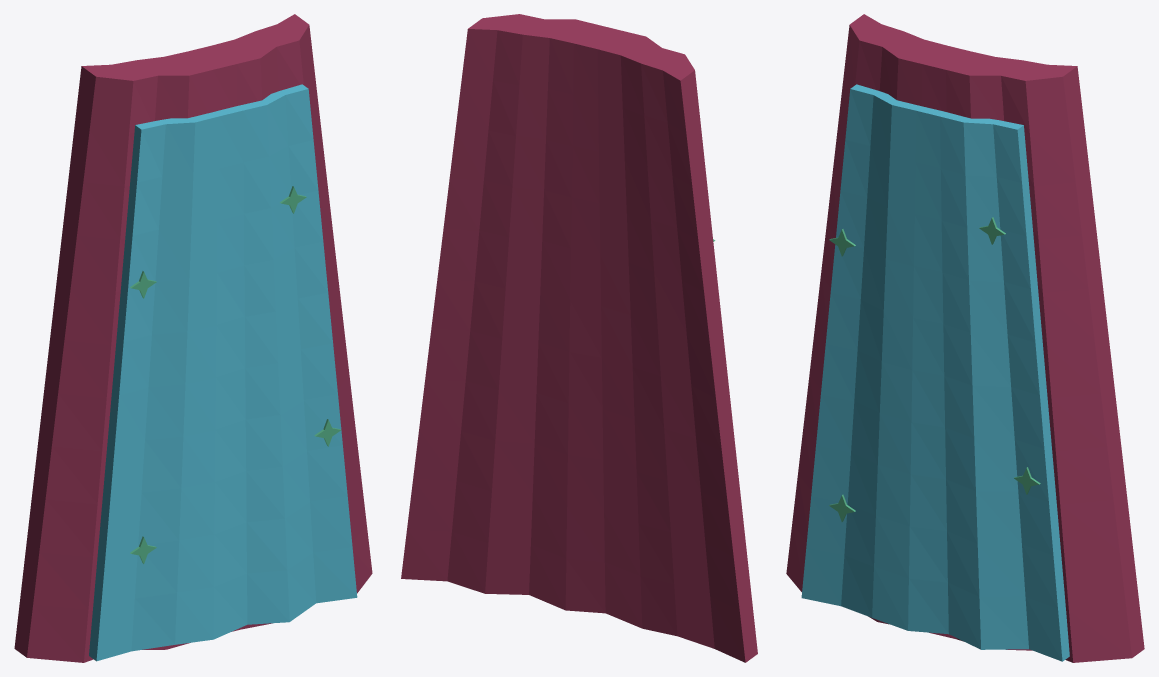
The model's file is star_veil.obj.
3 renders of one model, left to right at view 1: azimuth 30°, elevation 25°; view 2: azimuth 150°, elevation 25°; view 3: azimuth 330°, elevation 25°, orthographic.
Visible parts, largest first — view 1: star_veil_layer, star_veil_body, star_veil_body_edge, star_veil_layer_edge; view 2: star_veil_body_back, star_veil_body_edge; view 3: star_veil_layer, star_veil_body, star_veil_body_edge, star_veil_layer_edge.
Part boxes in pixels (bbox=[...]): star_veil_layer: bbox=[96, 89, 357, 660]; star_veil_body: bbox=[27, 25, 372, 662]; star_veil_body_edge: bbox=[14, 14, 309, 657]; star_veil_layer_edge: bbox=[89, 84, 308, 661]; star_veil_body_back: bbox=[401, 29, 745, 662]; star_veil_body_edge: bbox=[468, 14, 757, 662]; star_veil_layer: bbox=[801, 89, 1062, 661]; star_veil_body: bbox=[786, 25, 1131, 662]; star_veil_body_edge: bbox=[849, 14, 1144, 657]; star_veil_layer_edge: bbox=[850, 84, 1069, 661].
Size of the model in its own units: 1.2 by 1.89 by 0.2792.
